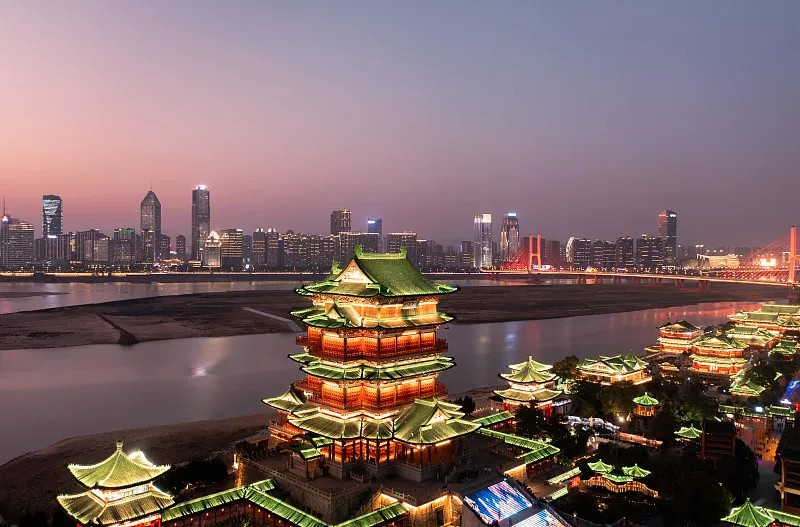Teng: (260, 246, 480, 468)
